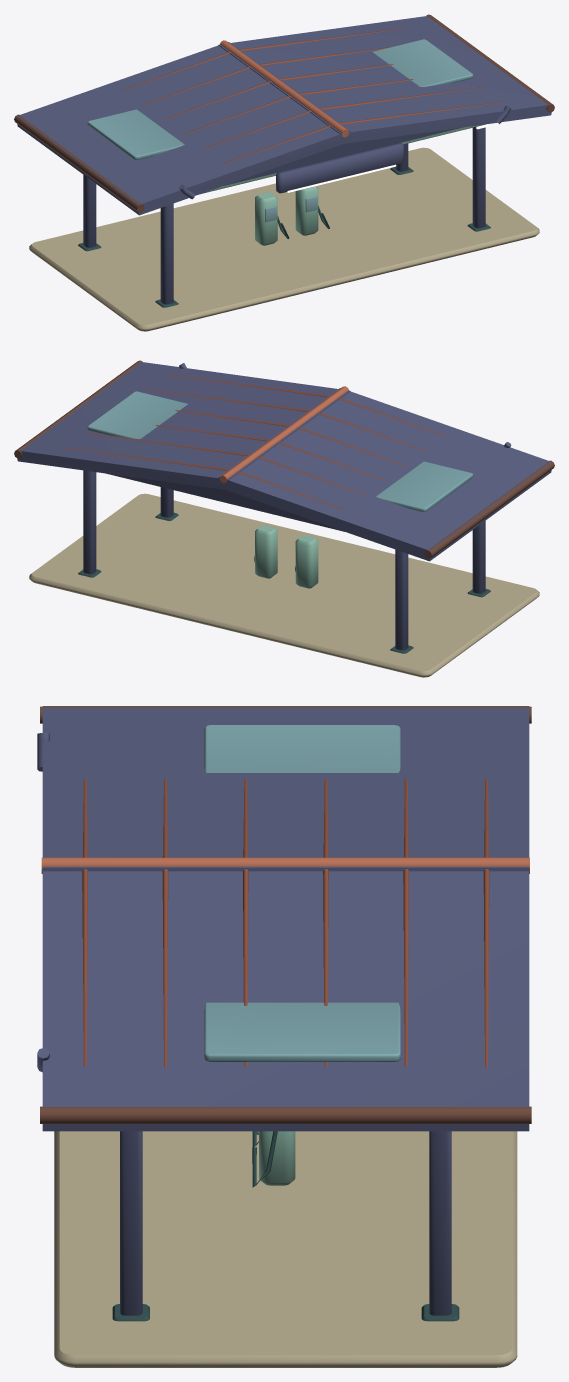
Rendered from japan_charge.glb.
3 renders of one model, top to bottom at view 1: azimuth 30°, elevation 25°; view 2: azimuth 150°, elevation 25°; view 3: azimuth 270°, elevation 25°, orthographic. The views are drawn at different scales.
Visible parts, largest first — view 1: JapanCharge; view 2: JapanCharge; view 3: JapanCharge.
Part boxes in pixels (x1,y1,x2,y2): JapanCharge: [14, 14, 554, 331]; JapanCharge: [14, 360, 554, 677]; JapanCharge: [37, 706, 531, 1367].
Bounding box in the file's own units: 11.09 × 4 × 5.68.
